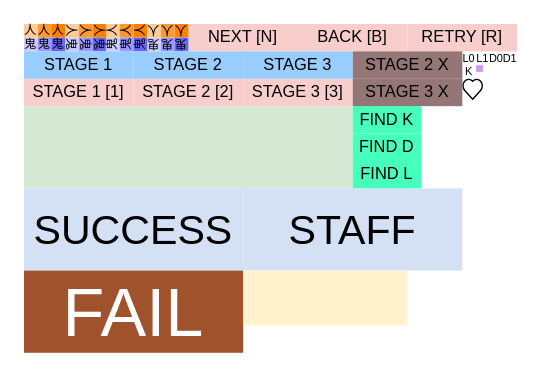
Some shapes in this 540 by 377 pixel diagram are drawn without their labels. The centre of each missing label's shape, as x and y in pixels:
TING & TING: the point at 324,297
小艾走不出去的迷宮: the point at 187,146
